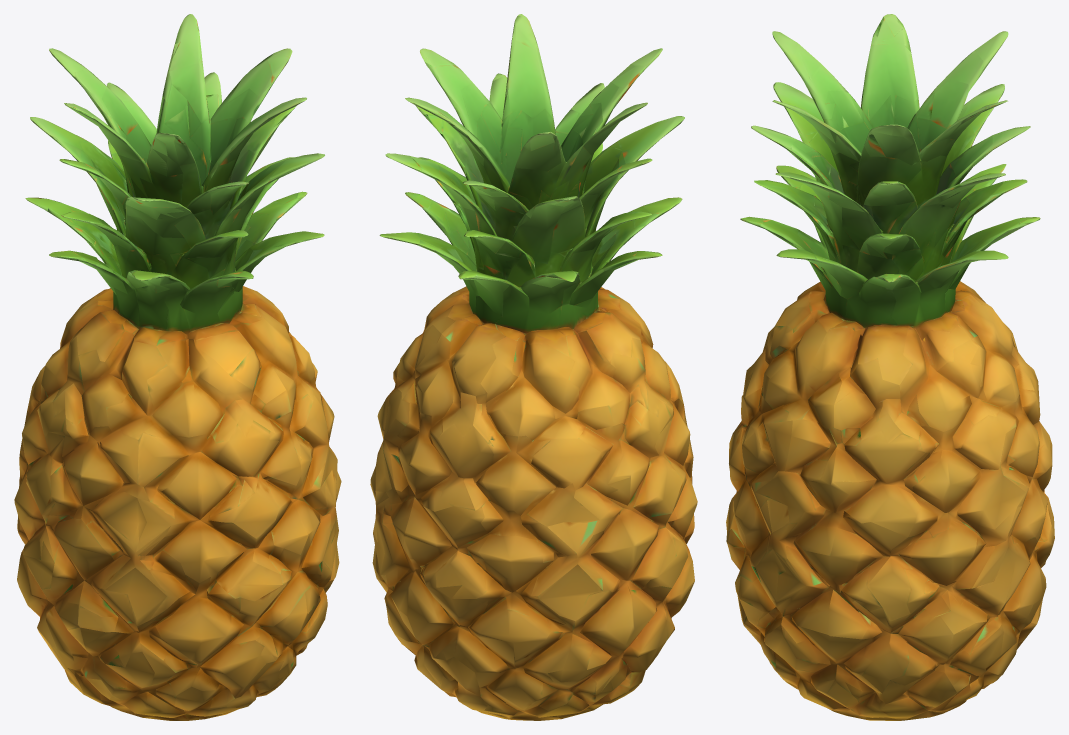
Rendered from fruit-pineapple.glb.
3 renders of one model, left to right at view 1: azimuth 30°, elevation 25°; view 2: azimuth 150°, elevation 25°; view 3: azimuth 270°, elevation 25°, orthographic.
Bounding box in the file's own units: 0.9082 × 1.9 × 0.911.
Materials: 1 (1 with a texture image).
